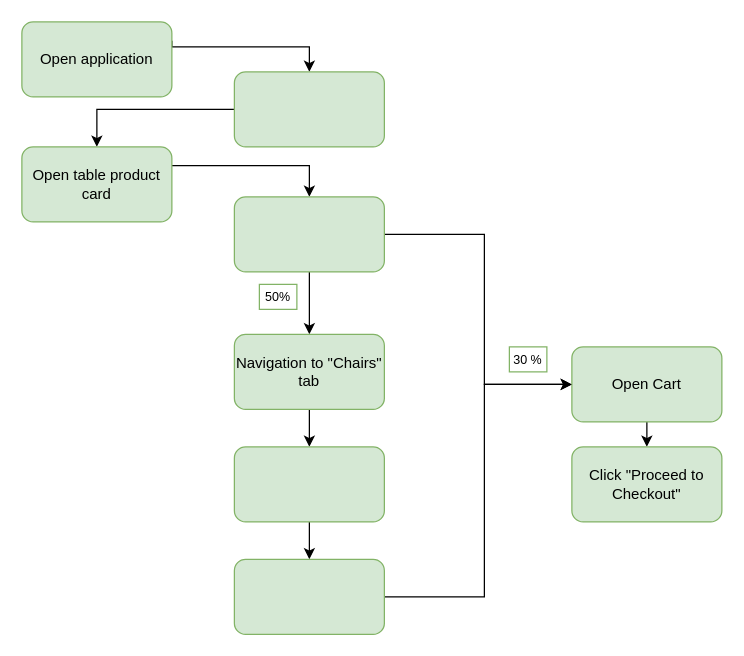
This 744x656 diagram has some shape labels left out. Here are the shapes that lost their labels. From the top down, the centre of each, then its label:
pixel 308 109: Navigation to "Tables" tab
pixel 308 234: Add table to Cart
pixel 308 484: Open chair product card
pixel 308 596: Add chair to Cart
